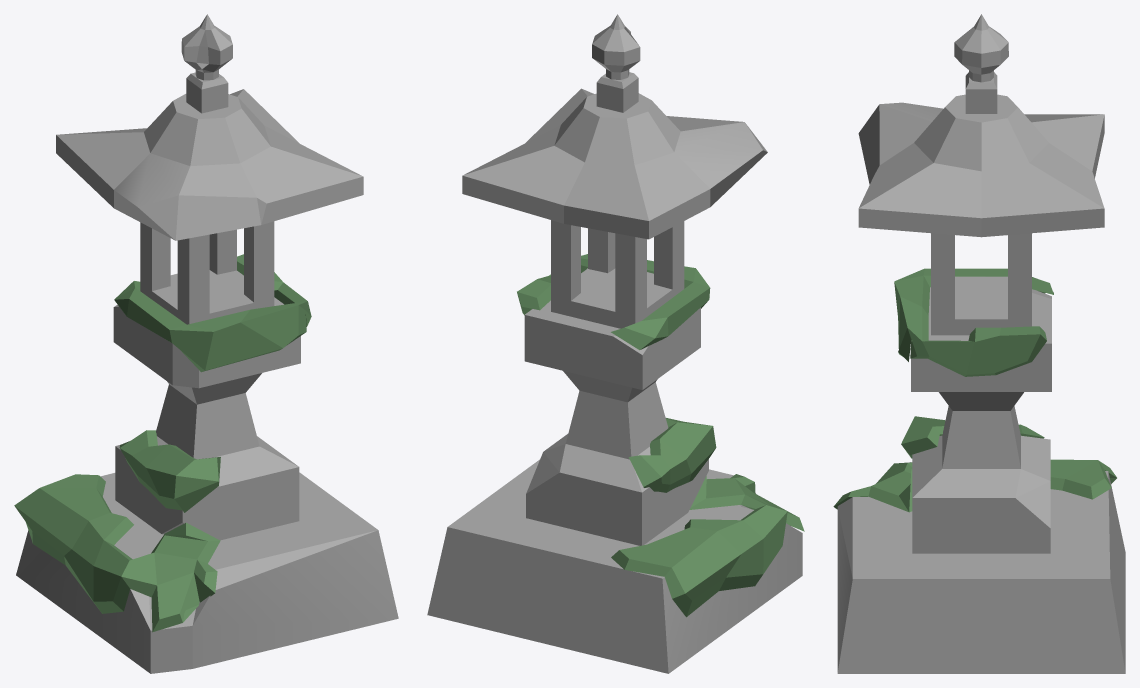
Rendered from StoneLanternSquareMoss.fbx.
The picture shows the model from 3 angles, left to right: view 1: azimuth 30°, elevation 25°; view 2: azimuth 150°, elevation 25°; view 3: azimuth 270°, elevation 25°; orthographic projection. The views are drawn at different scales.
Parts seen in each view (by area): view 1: StoneLanternSquareMoss; view 2: StoneLanternSquareMoss; view 3: StoneLanternSquareMoss.
Part boxes in pixels (x1,y1,x2,y2): StoneLanternSquareMoss: [14, 14, 398, 673]; StoneLanternSquareMoss: [427, 14, 804, 673]; StoneLanternSquareMoss: [833, 14, 1125, 673].
Size of the model in its own units: 106 by 235 by 104.
